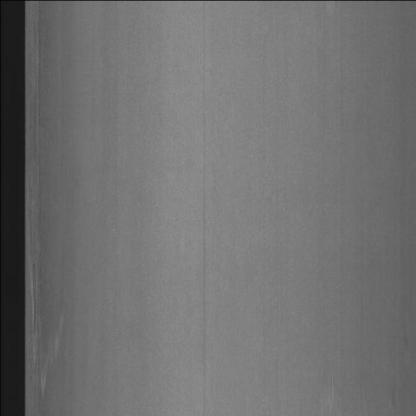silk_spot: (26, 233, 64, 398)
